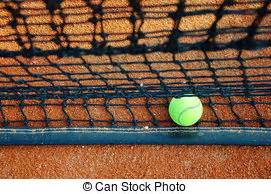tennis_ball: (168, 94, 203, 126)
